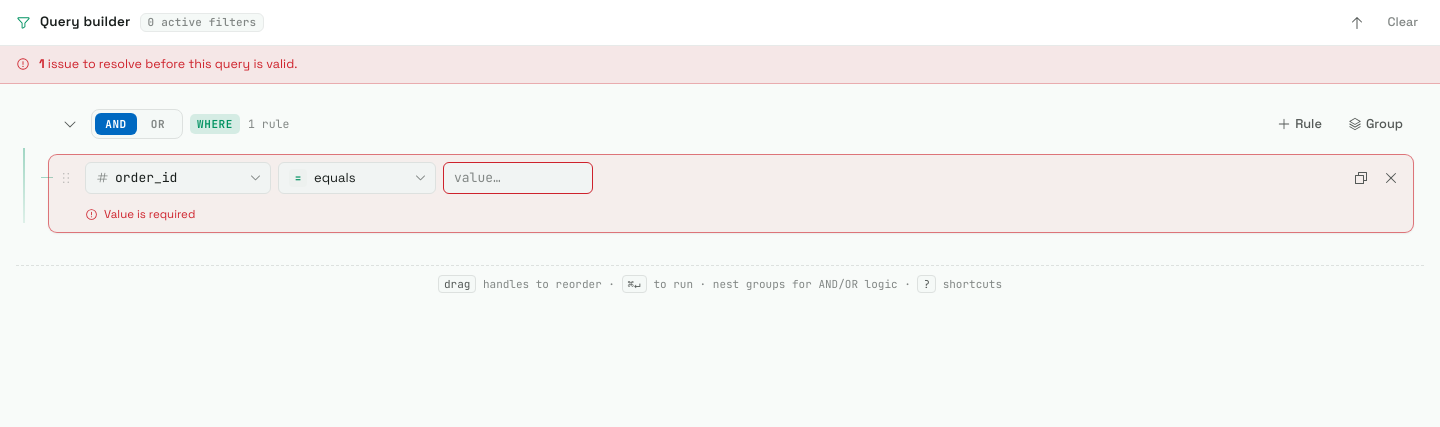
Test case: Builder interactions › adds a rule when the Rule button is clicked
What coordinates should you click on to do the following:
click the button "Rule"
I would click on:
 (1300, 124)
Its box is [1266,110,1333,138].
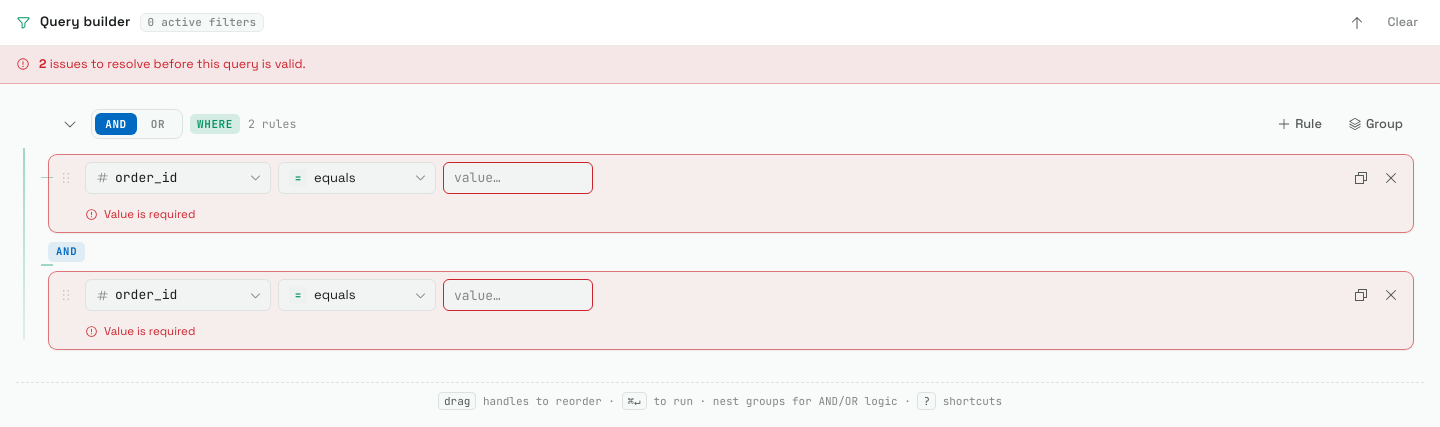
Now the number of buttons named "Remove rule" is 2, box [1377,164,1405,192]; [1377,281,1405,309]
